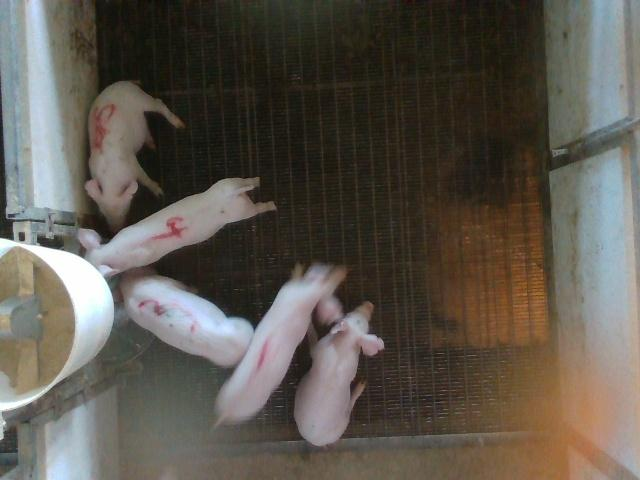pig-1: (216, 264, 346, 424)
pig-3: (120, 268, 254, 367)
pig-4: (78, 178, 275, 277)
pig-5: (85, 81, 184, 232)
